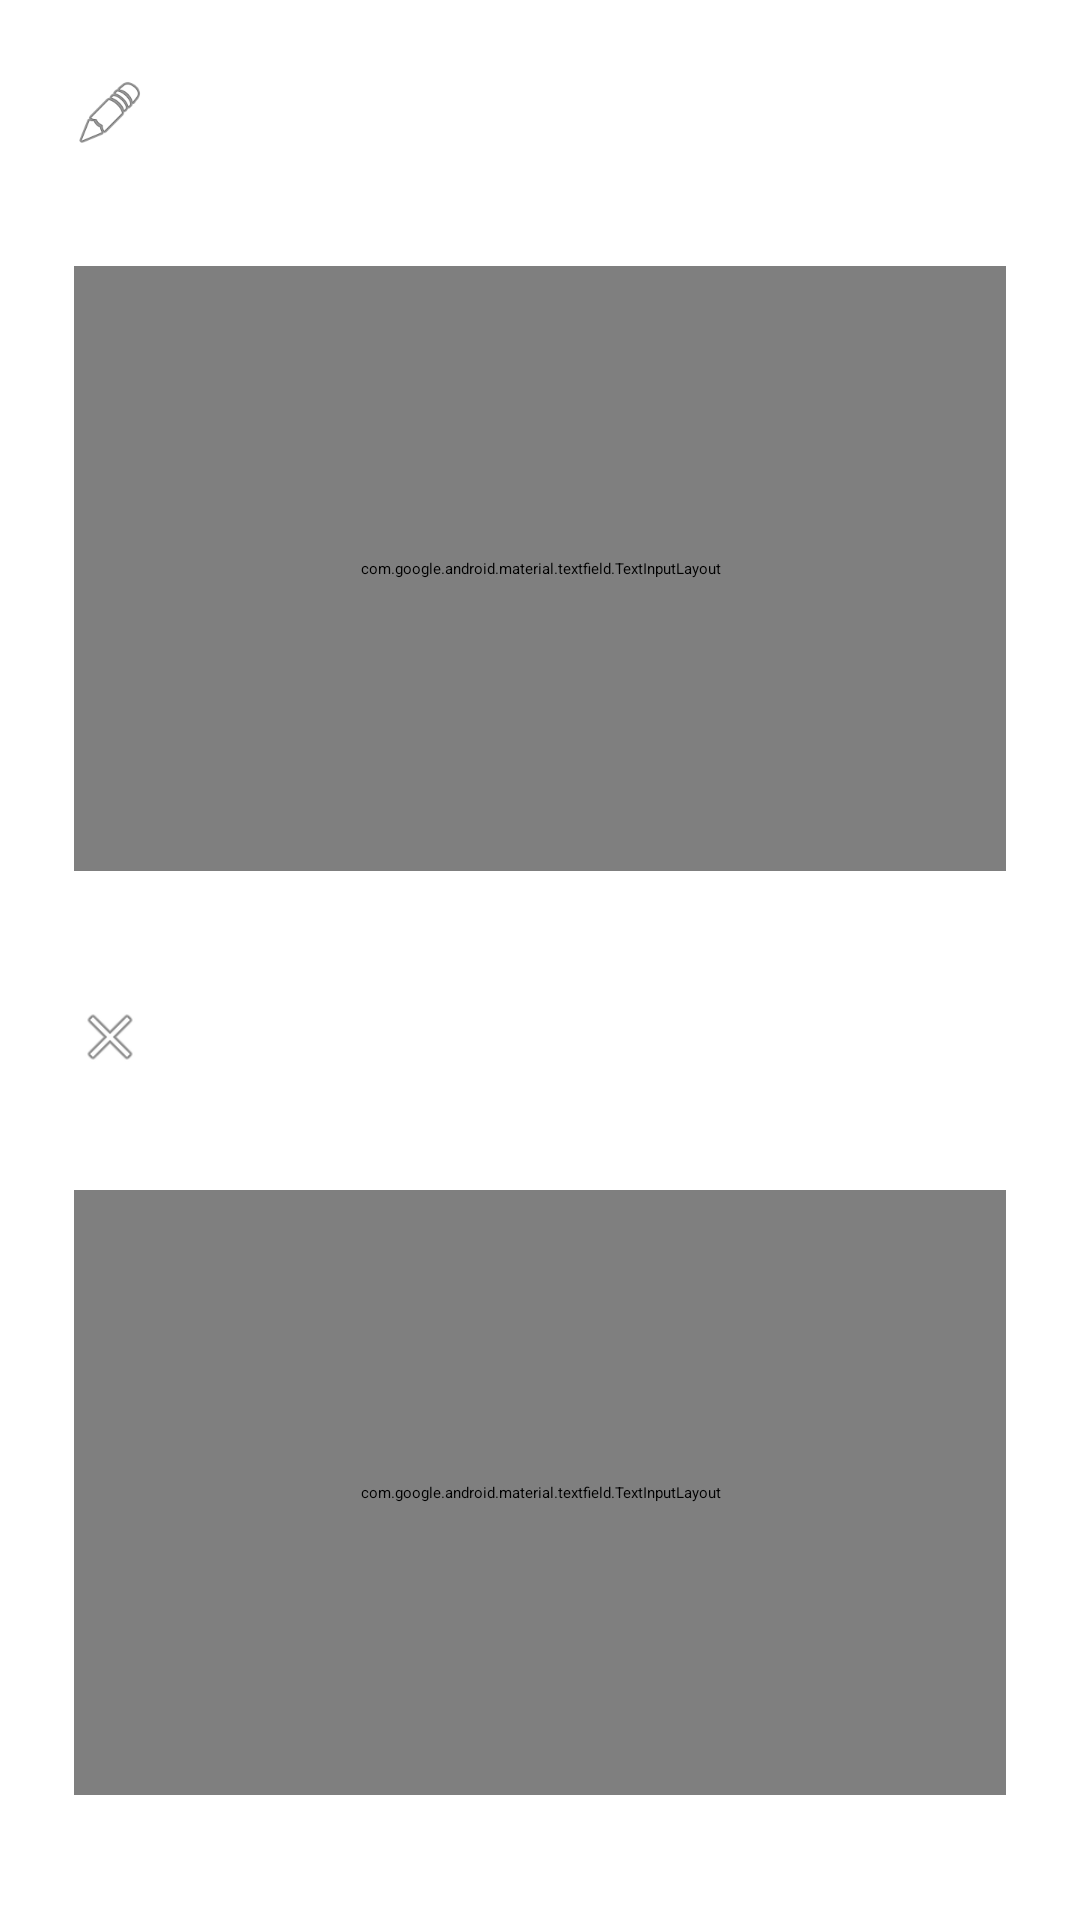

Icons on this 1080px x 1920px Android screen, each with its box as [x1, y1, x2, y2]:
close clear cancel: [87, 1014, 133, 1060]
edit: [79, 82, 140, 143]
